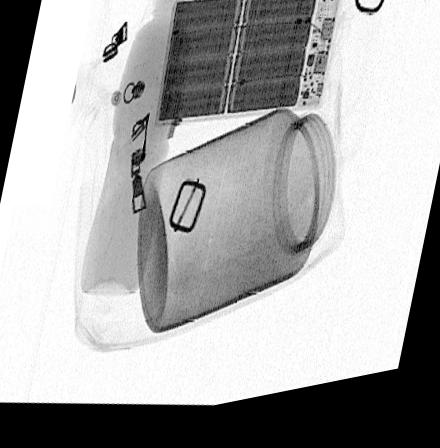Powerbank: (153, 0, 345, 131)
